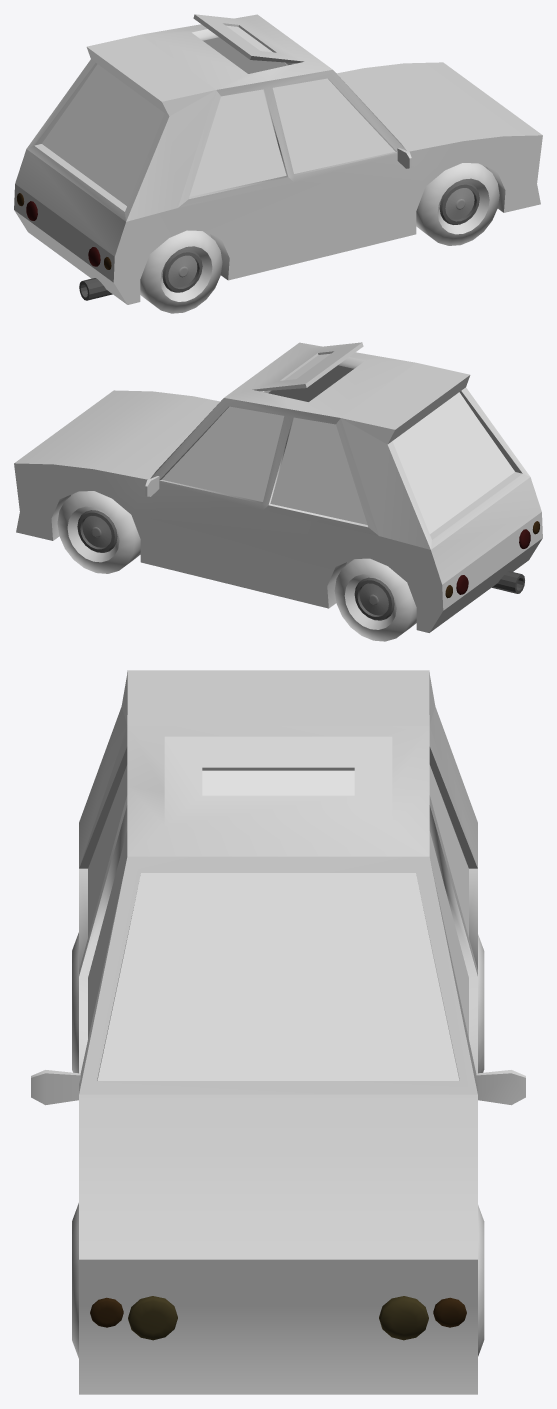
File: Vehicle-Hatchback_01.fbx
The picture shows the model from 3 angles, top to bottom: view 1: azimuth 30°, elevation 25°; view 2: azimuth 150°, elevation 25°; view 3: azimuth 270°, elevation 25°; orthographic projection. The views are drawn at different scales.
Visible parts, largest first — view 1: Body, Windows, Wheel_FR, Wheel_BR, WheelRim_BR, WheelRim_FR, Lights, MetalDetails; view 2: Body, Windows, Wheel_FL, Wheel_BL, WheelRim_BL, WheelRim_FL, Lights, MetalDetails; view 3: Body, Windows, Lights, Wheel_FR, Wheel_FL, Wheel_BR, Wheel_BL.
Boxes of the visible parts, x1,y1,x2,y2 form: Body: (14, 14, 542, 304); Windows: (42, 25, 394, 205); Wheel_FR: (416, 163, 499, 245); Wheel_BR: (140, 230, 222, 313); WheelRim_BR: (162, 250, 202, 292); WheelRim_FR: (439, 182, 479, 224); Lights: (17, 193, 111, 269); MetalDetails: (79, 278, 112, 300); Body: (14, 342, 542, 632); Windows: (161, 353, 514, 533); Wheel_FL: (57, 491, 140, 573); Wheel_BL: (334, 558, 416, 641); WheelRim_BL: (354, 577, 394, 620); WheelRim_FL: (77, 510, 117, 552); Lights: (445, 521, 539, 598); MetalDetails: (492, 571, 524, 593); Body: (31, 670, 525, 1394); Windows: (88, 765, 468, 1080); Lights: (90, 1296, 466, 1340); Wheel_FR: (72, 1203, 78, 1358); Wheel_FL: (478, 1205, 484, 1356); Wheel_BR: (72, 932, 78, 1073); Wheel_BL: (478, 934, 484, 1073).
Bounding box in the file's own units: 3.67 × 1.77 × 1.8.
